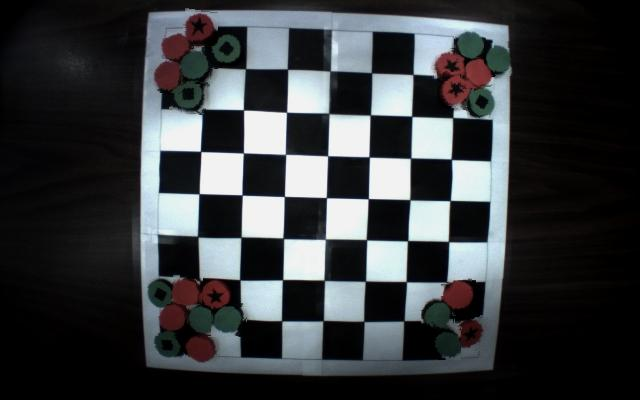G: (170, 75, 208, 114), (208, 30, 244, 68), (467, 84, 499, 118), (144, 276, 175, 311), (153, 327, 185, 360)
R: (437, 72, 475, 110), (429, 47, 468, 82), (181, 10, 218, 46), (455, 317, 488, 353), (200, 279, 231, 312)
g: (211, 302, 248, 337), (422, 296, 456, 333), (178, 48, 212, 84), (428, 323, 461, 360), (484, 41, 513, 77), (454, 28, 486, 60), (186, 304, 217, 336)
r: (459, 54, 494, 89), (443, 280, 476, 316), (159, 29, 194, 62), (171, 274, 203, 310), (152, 59, 185, 93), (156, 304, 189, 336), (185, 332, 217, 364)
